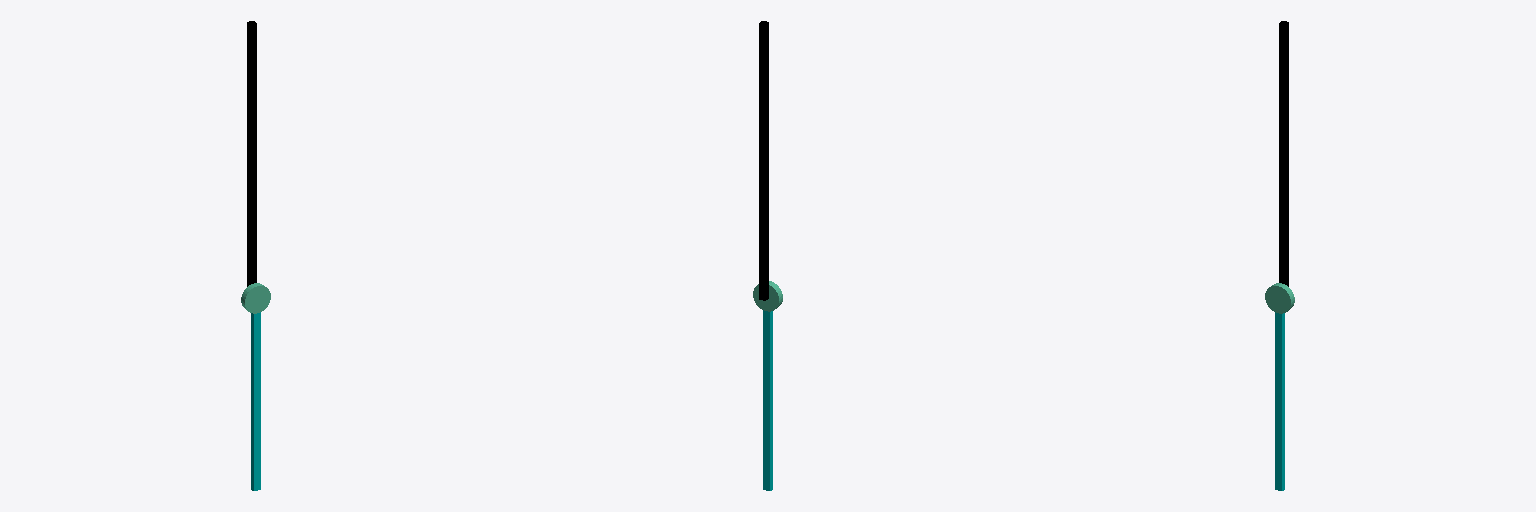
URDF robot description (camel_single_leg_bot_3dof):
<?xml version="1.0" ?>
<robot name="camel_single_leg_bot_3dof">
  <material name="black">
    <color rgba="0.0 0.0 0.0 1.0"/>
  </material>
  <material name="Aquamarine">
    <color rgba="0.364 0.733 0.608 1.0"/>
  </material>
  <material name="Aqua">
    <color rgba="0.0 0.733 0.733 1.0"/>
  </material>

  <link name="world"/>
  <joint name="fixed" type="fixed">
    <parent link="world"/>
    <child link="base"/>
  </joint>

  <link name="base">
    <visual>
      <origin rpy="0 0 0" xyz="0 0 0.5"/>
      <geometry>
        <box size="0.025 0.025 1.0"/>
      </geometry>
      <material name="black"/>
    </visual>

    <inertial>
      <mass value="10"/>
      <inertia ixx="1.0" ixy="0.0" ixz="0.0" iyy="1.0" iyz="0.0" izz="1.0"/>
    </inertial>
  </link>

  <joint name="linear_guide" type="prismatic">
    <origin rpy="0 0 0" xyz="0 -0.025 0"/>
    <parent link="base"/>
    <child link="hip"/>
    <axis xyz="0 0 1"/>
  </joint>

  <link name="hip">
    <visual>
      <origin rpy="-1.570796 0 0" xyz="0.0 0 0.0"/>
      <geometry>
        <cylinder length="0.025" radius="0.05"/>
      </geometry>
      <material name="Aquamarine"/>
    </visual>

    <inertial>
      <mass value="3.0"/>
      <inertia ixx="0.00203125" ixy="0.0" ixz="0.0" iyy="0.00375000" iyz="0.0" izz="0.00203125"/>
    </inertial>
  </link>

  <joint name="hip_pitch" type="revolute">
    <origin rpy="0 0 0" xyz="0 0.0 0.0"/>
    <parent link="hip"/>
    <child link="upper_leg"/>
    <axis xyz="0 1 0"/>
  </joint>

  <link name="upper_leg">
    <visual>
      <origin rpy="0 0 0" xyz="0 0 -0.15"/>
      <geometry>
        <box size="0.03 0.02 0.3"/>
      </geometry>
      <material name="Aqua"/>
    </visual>

    <inertial>
      <mass value="1.0"/>
      <inertia ixx="1.0" ixy="0.0" ixz="0.0" iyy="1.0" iyz="0.0" izz="1.0"/>
    </inertial>
  </link>

  <joint name="knee_pitch" type="revolute">
    <origin rpy="0 0 0" xyz="0 0 -0.3"/>
    <parent link="upper_leg"/>
    <child link="lower_leg"/>
    <axis xyz="0 1 0"/>
  </joint>

  <link name="lower_leg">
    <visual>
      <origin rpy="0 0 0" xyz="0 0 -0.15"/>
      <geometry>
        <box size="0.03 0.02 0.3"/>
      </geometry>
      <material name="Aqua"/>      
    </visual>

    <inertial>
      <mass value="1.0"/>
      <inertia ixx="1.0" ixy="0.0" ixz="0.0" iyy="1.0" iyz="0.0" izz="1.0"/>
    </inertial>
  </link>

  <joint name="ankle_pitch" type="revolute">
    <origin rpy="0 0 0" xyz="0 0 -0.3"/>
    <parent link="lower_leg"/>
    <child link="foot"/>
    <axis xyz="0 1 0"/>
  </joint>
  
  <link name="foot">
    <visual>
      <origin rpy="0 0 0" xyz="0 0 -0.05"/>
      <geometry>
        <box size="0.03 0.02 0.1"/>
      </geometry>
      <material name="Aqua"/>      
    </visual>

    <collision>
      <origin rpy="0 0 0" xyz="0 0 -0.05"/>
      <geometry>
        <box size="0.03 0.02 0.1"/>
      </geometry>
    </collision>

    <inertial>
      <mass value="0.5"/>
      <inertia ixx="1.0" ixy="0.0" ixz="0.0" iyy="1.0" iyz="0.0" izz="1.0"/>
    </inertial>
  </link>
</robot>

--- Facts derived from the render (not from the file) ---
3 views of the same robot in one strip: view 1: azimuth 30°, elevation 25°; view 2: azimuth 150°, elevation 25°; view 3: azimuth 330°, elevation 25° (orthographic).
Robot: camel_single_leg_bot_3dof — 6 links, 5 joints (3 revolute, 1 prismatic, 1 fixed); root link world; default pose: every joint at zero.
Visible links, largest first — view 1: base, lower_leg, hip, upper_leg; view 2: base, lower_leg, upper_leg, hip; view 3: base, lower_leg, hip, upper_leg.
Link boxes in pixels (box(x1,y1,x2,y2)): base: box(247, 21, 256, 286); lower_leg: box(251, 381, 260, 463); hip: box(241, 283, 270, 313); upper_leg: box(251, 312, 260, 381); base: box(759, 21, 768, 300); lower_leg: box(763, 379, 772, 463); upper_leg: box(763, 310, 772, 380); hip: box(753, 281, 782, 311); base: box(1279, 21, 1288, 286); lower_leg: box(1275, 381, 1284, 463); hip: box(1265, 283, 1294, 313); upper_leg: box(1275, 312, 1284, 381).
Bounding box of the posed robot: 0.1 × 0.05 × 1.7 m (x, y, z).
Geometry: primitives only (box / cylinder / sphere), no mesh files.
